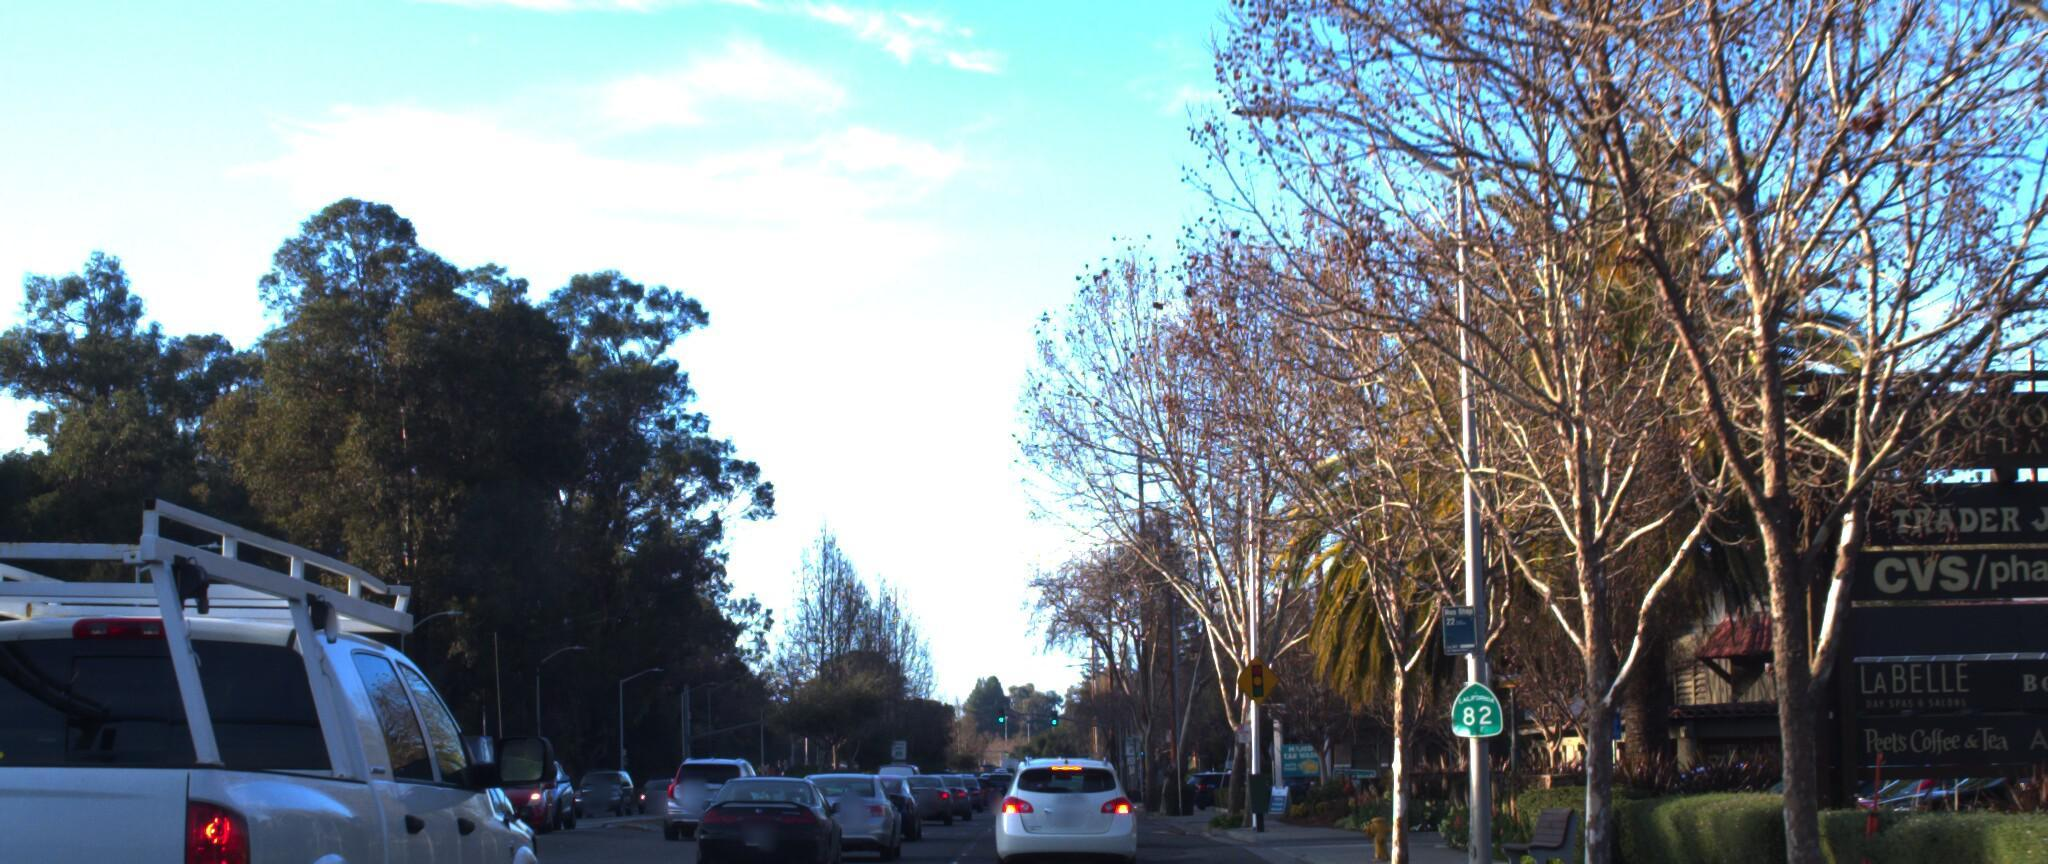car: (989, 735, 1143, 864), (695, 752, 846, 864), (788, 750, 910, 854), (648, 737, 754, 829), (899, 750, 970, 812)
